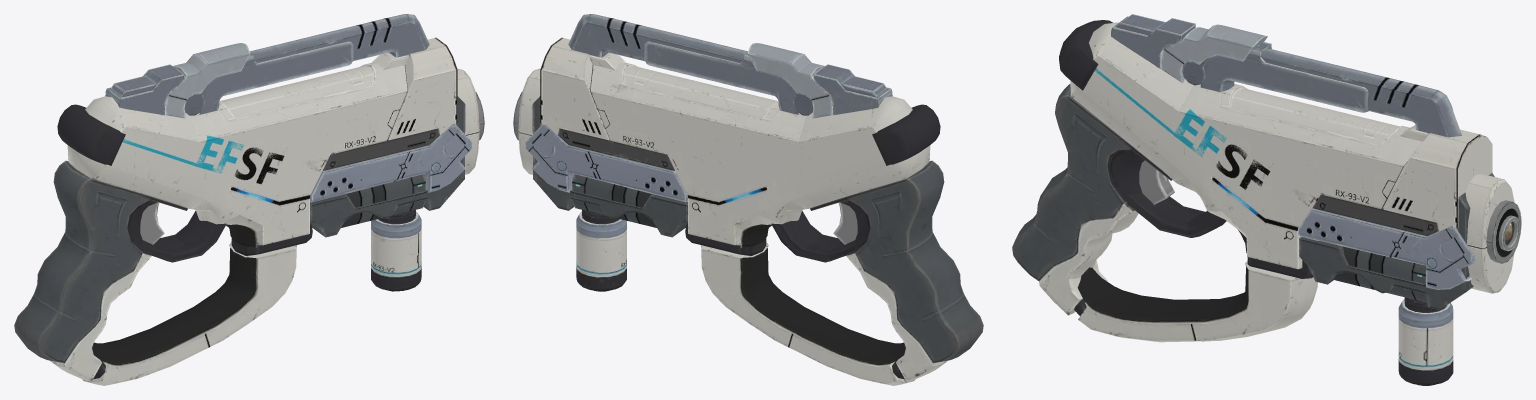
File: pistol.glb
3 renders of one model, left to right at view 1: azimuth 30°, elevation 25°; view 2: azimuth 150°, elevation 25°; view 3: azimuth 330°, elevation 25°, orthographic. The views are drawn at different scales.
Parts seen in each view (by area): view 1: pSphere2_lambert1_0; view 2: pSphere2_lambert1_0; view 3: pSphere2_lambert1_0.
Boxes of the visible parts, x1,y1,x2,y2 form: pSphere2_lambert1_0: (14, 14, 484, 385); pSphere2_lambert1_0: (513, 14, 983, 385); pSphere2_lambert1_0: (1012, 14, 1521, 385).
Size of the model in its own units: 0.0736 by 0.0473 by 0.00961.
Materials: 2 (1 with a texture image).
